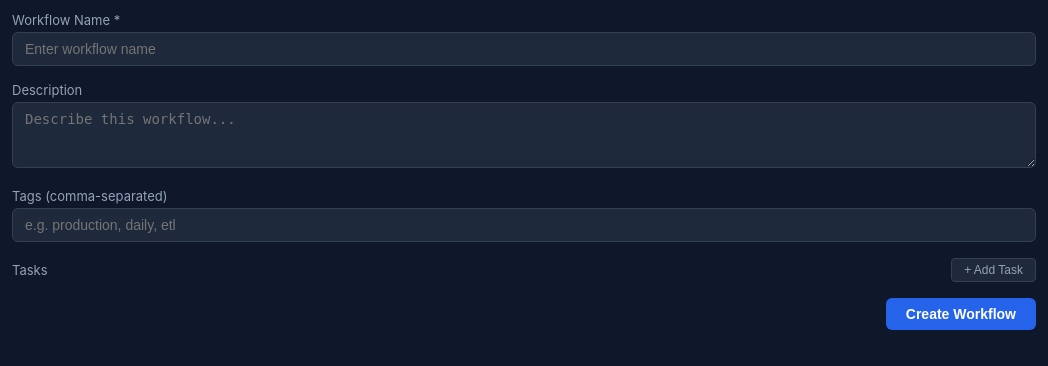
WorkflowForm › shows validation error when name is empty
Step 1. Click the button with test id "submit-button" → {"x": 961, "y": 314}, box top-left (886, 298), bottom-right (1036, 330)
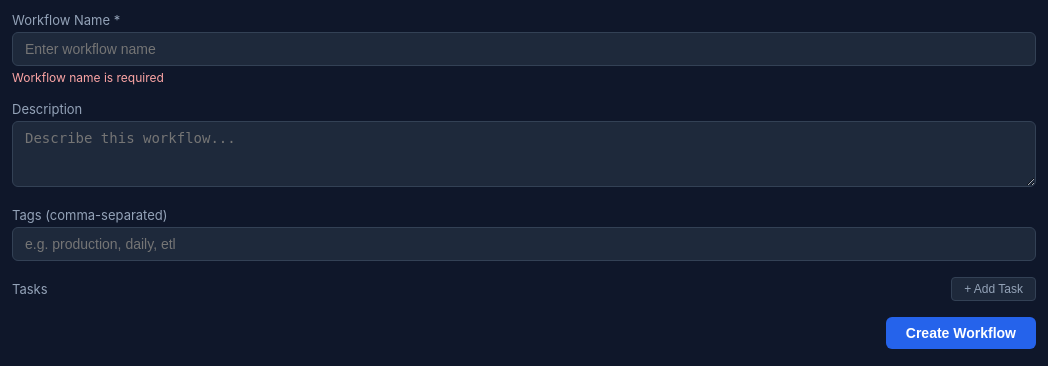
expect the text "Workflow name is required" is shown: met, box top-left (12, 70), bottom-right (164, 85)
